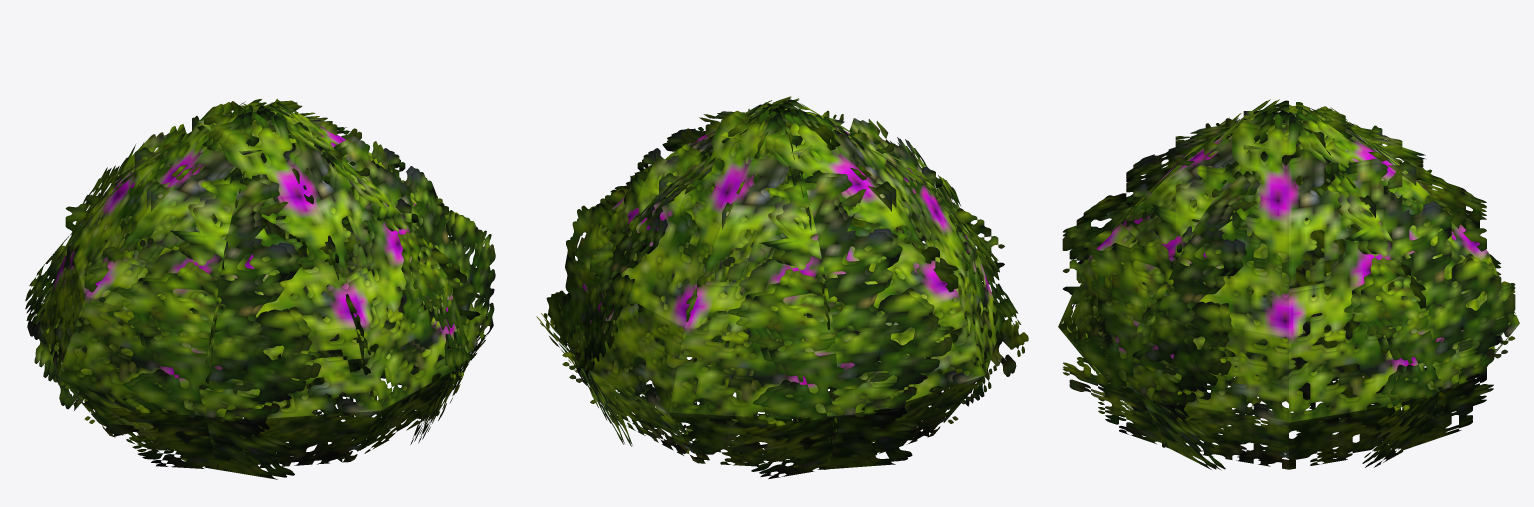
The model's file is lantana_orange_flowering_bush.glb.
3 views of the same model, side by side, from view 1: azimuth 30°, elevation 25°; view 2: azimuth 150°, elevation 25°; view 3: azimuth 270°, elevation 25° (orthographic).
Visible parts, largest first — view 1: bush2; view 2: bush2; view 3: bush2.
Part boxes in pixels (left/top/right/bottom): bush2: left=25, top=98, right=495, bottom=479; bush2: left=536, top=96, right=1028, bottom=479; bush2: left=1058, top=99, right=1519, bottom=470.
Bounding box in the file's own units: 1.02 × 0.7 × 1.02.
Materials: 1 (1 with a texture image).
